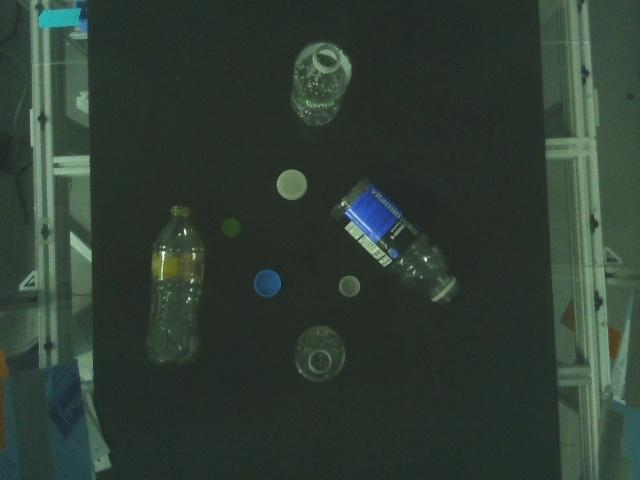plastic: (330, 175, 460, 304), (144, 204, 206, 366), (290, 40, 354, 128), (294, 325, 347, 384), (276, 169, 307, 201), (253, 269, 282, 298), (338, 275, 361, 298), (220, 217, 241, 237)
